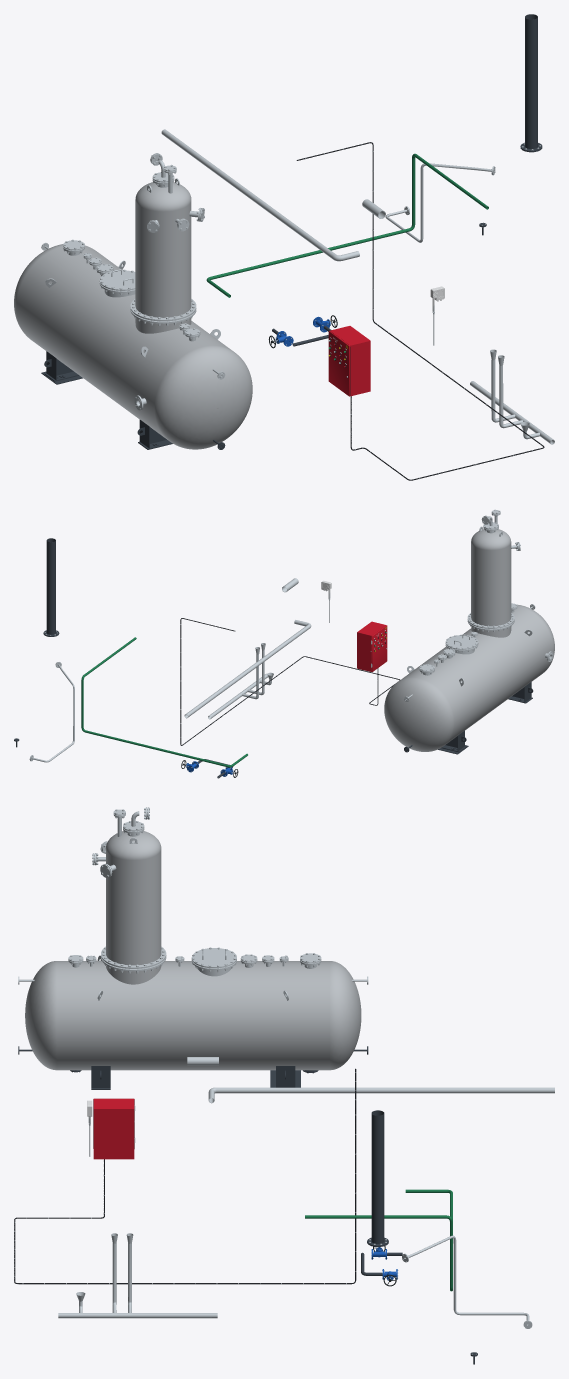
File: s4000-1-CSHPvuzC.glb
3 views of the same model, one above another, from view 1: azimuth 30°, elevation 25°; view 2: azimuth 150°, elevation 25°; view 3: azimuth 270°, elevation 25° (orthographic). The views are drawn at different scales.
Parts seen in each view (by area): view 1: deaerator CAD solid 56, deaerator CAD solid 257, bdv_vent / dark, safety_vent_2 / steel, to_economizer / green, control_cabinet / control_cabinet_0.npz, local_open_drains / steel, mod_eco_drive_cable / black, cabinet_door / cabinet_door_5.npz, trap_gap_to_bdv / steel, deaerator CAD solid 408; view 2: deaerator CAD solid 56, deaerator CAD solid 257, bdv_vent / dark, to_economizer / green, safety_vent_2 / steel, mod_eco_drive_cable / black, control_cabinet / control_cabinet_0.npz, local_open_drains / steel, cabinet_door / cabinet_door_5.npz, deaerator CAD solid 408, trap_gap_to_bdv / steel; view 3: deaerator CAD solid 56, deaerator CAD solid 257, control_cabinet / control_cabinet_0.npz, safety_vent_2 / steel, bdv_vent / dark, local_open_drains / steel, mod_eco_drive_cable / black, to_economizer / green, trap_gap_to_bdv / steel, deaerator CAD solid 408.
Part boxes in pixels (x1,y1,x2,y2): deaerator CAD solid 56: [14, 244, 252, 449]; deaerator CAD solid 257: [135, 182, 191, 317]; bdv_vent / dark: [520, 14, 542, 152]; safety_vent_2 / steel: [161, 129, 359, 261]; to_economizer / green: [206, 153, 488, 297]; control_cabinet / control_cabinet_0.npz: [330, 326, 370, 396]; local_open_drains / steel: [470, 349, 554, 444]; mod_eco_drive_cable / black: [296, 142, 544, 480]; cabinet_door / cabinet_door_5.npz: [328, 331, 350, 396]; trap_gap_to_bdv / steel: [385, 163, 495, 242]; deaerator CAD solid 408: [99, 270, 135, 290]; deaerator CAD solid 56: [384, 604, 554, 751]; deaerator CAD solid 257: [471, 529, 511, 626]; bdv_vent / dark: [43, 538, 59, 636]; to_economizer / green: [81, 637, 247, 767]; safety_vent_2 / steel: [184, 620, 311, 718]; mod_eco_drive_cable / black: [180, 618, 399, 745]; control_cabinet / control_cabinet_0.npz: [357, 621, 385, 671]; local_open_drains / steel: [208, 643, 273, 719]; cabinet_door / cabinet_door_5.npz: [371, 625, 387, 672]; deaerator CAD solid 408: [445, 635, 478, 649]; trap_gap_to_bdv / steel: [29, 662, 74, 762]; deaerator CAD solid 56: [25, 961, 361, 1070]; deaerator CAD solid 257: [106, 831, 161, 965]; control_cabinet / control_cabinet_0.npz: [93, 1099, 135, 1159]; safety_vent_2 / steel: [208, 1087, 554, 1103]; bdv_vent / dark: [367, 1110, 388, 1246]; local_open_drains / steel: [58, 1233, 217, 1318]; mod_eco_drive_cable / black: [14, 1068, 356, 1284]; to_economizer / green: [305, 1189, 452, 1291]; trap_gap_to_bdv / steel: [402, 1235, 532, 1328]; deaerator CAD solid 408: [191, 948, 236, 968].
Size of the model in its own units: 8.25 by 4.88 by 7.03.
